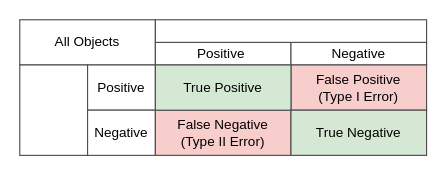
The diagram is 446 pixels wide and 175 high, and some of its shapes have lost their labels. The shapes that lost their labels are listed below. From the top down, each one's box as (x1, y1, x2, y2) in pixels, then its label:
(154, 19, 427, 42): Actual Condition
(19, 64, 88, 155): Predicted Condition
